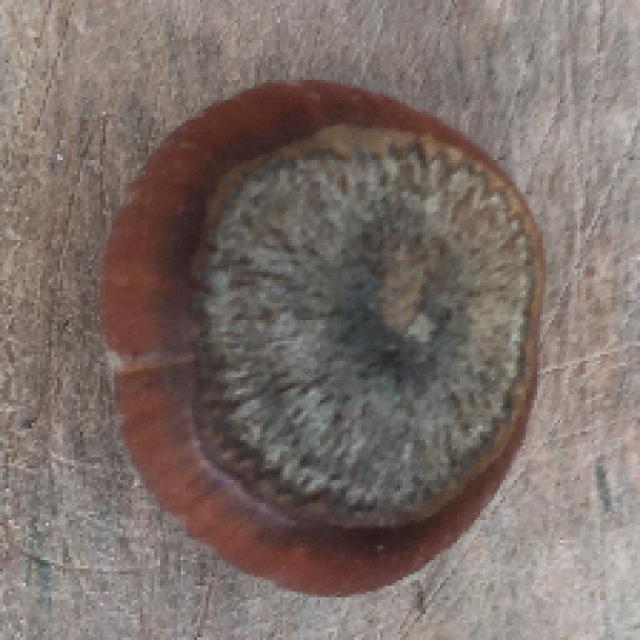damagedHazelnut: (104, 64, 546, 600)
